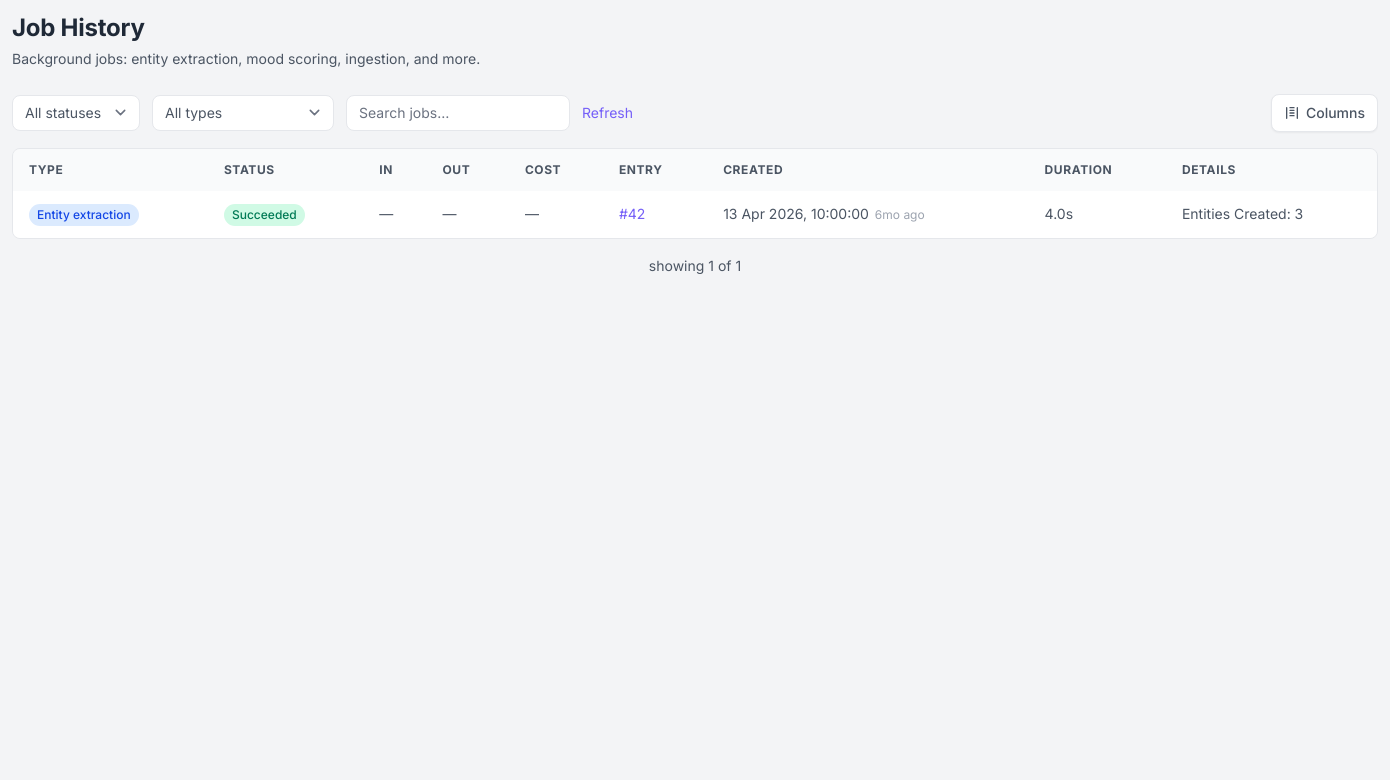
JobHistoryView › shows params summary without entry_id
The image size is (1390, 780).
Click the button with test id "columns-button": (1324, 113) top-left (1271, 94), bottom-right (1378, 132)
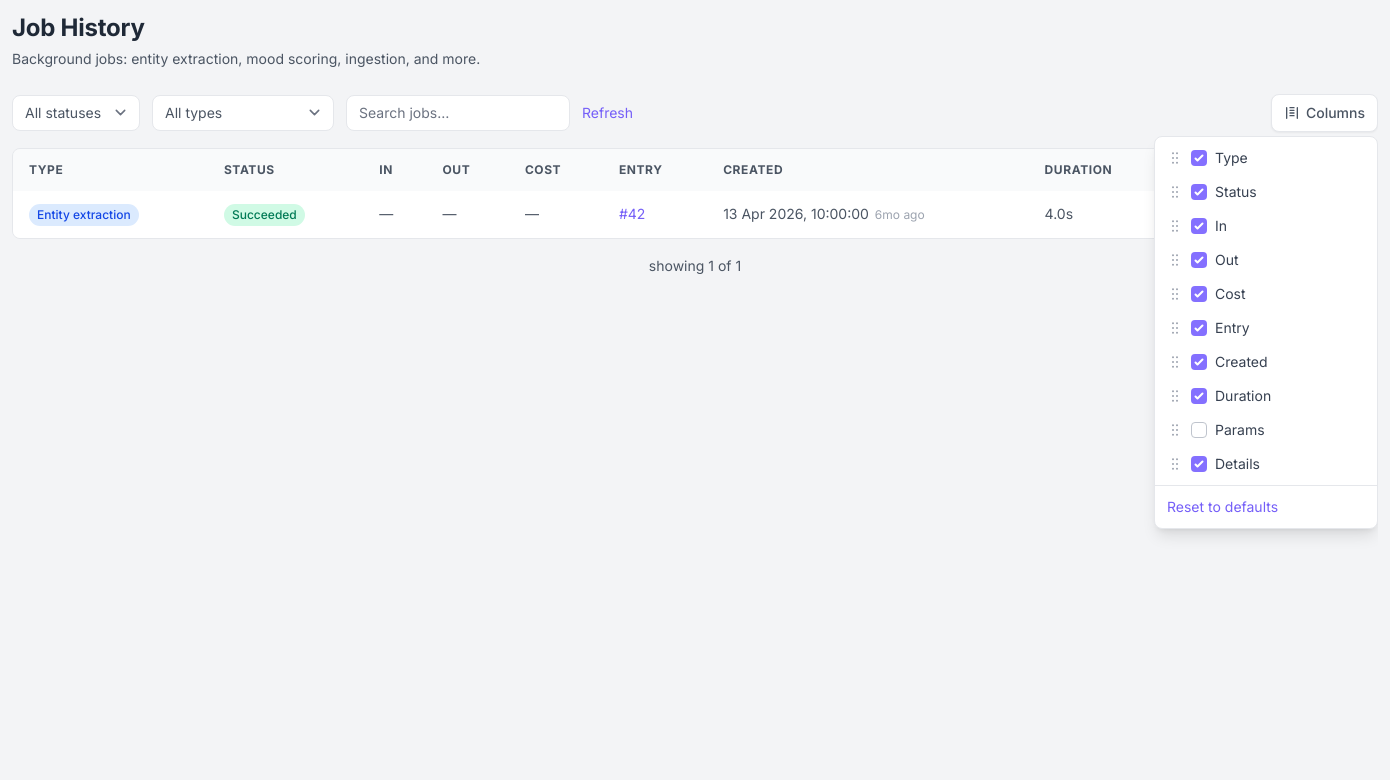
Click the checkbox with test id "col-toggle-params": (1199, 430) top-left (1191, 422), bottom-right (1207, 438)
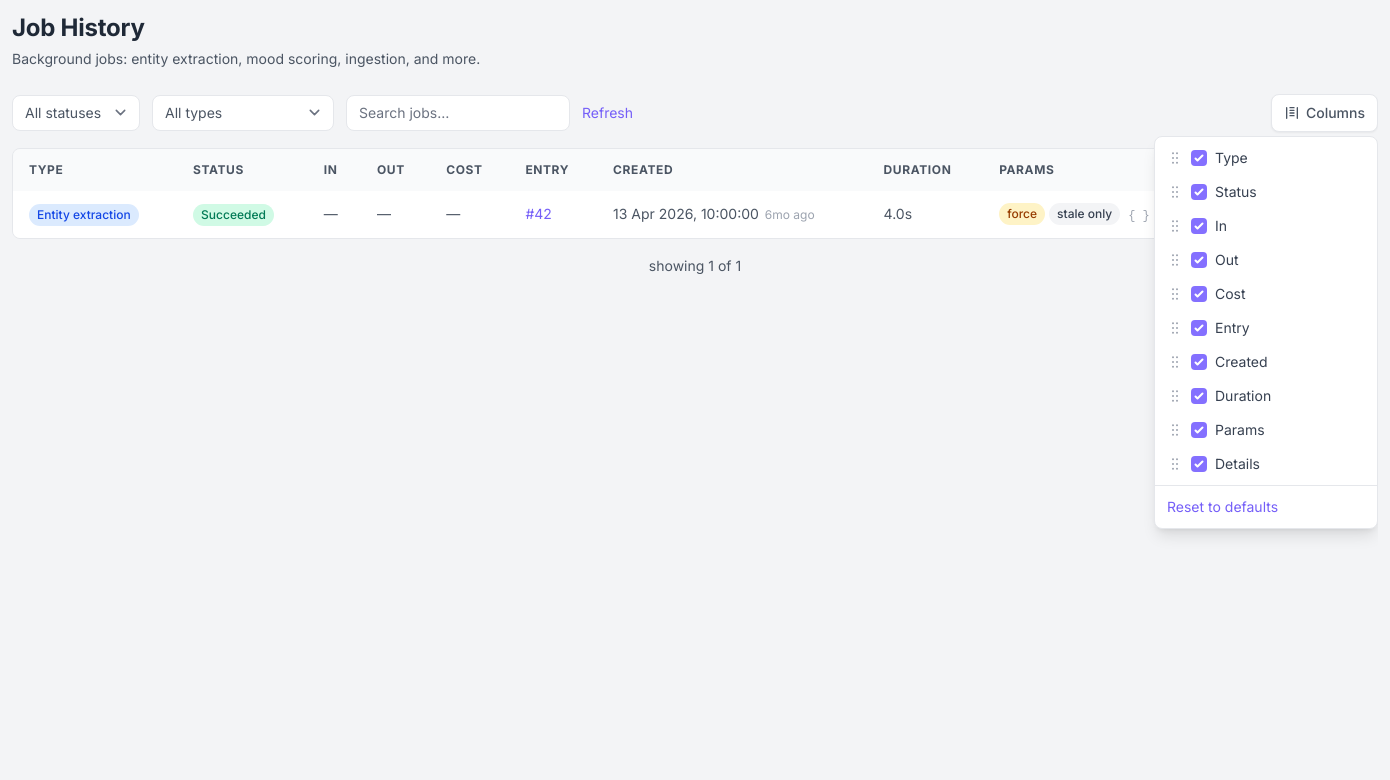
Expected: the text "stale only" is shown, top-left (1049, 203), bottom-right (1120, 225)
Expected: the text "force" is shown, top-left (999, 203), bottom-right (1045, 225)
